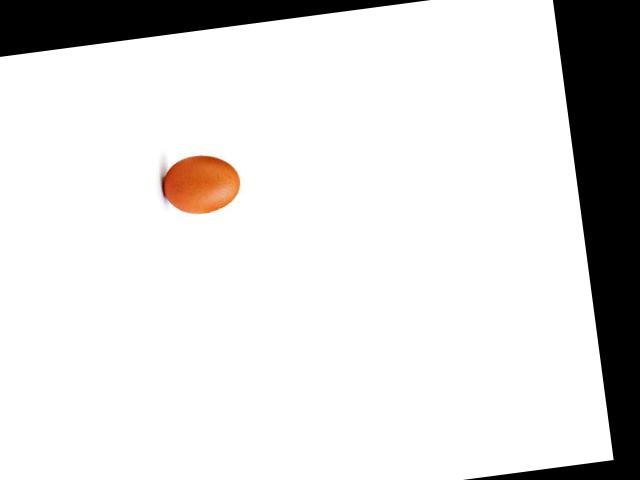egg: (160, 150, 242, 217)
